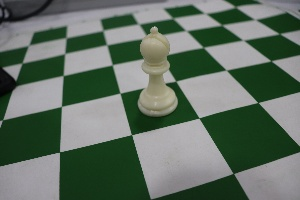white_bishop: (126, 16, 182, 121)
